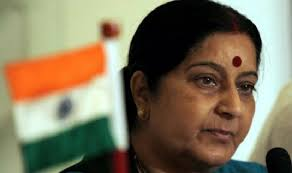indian_female: (116, 2, 276, 158)
